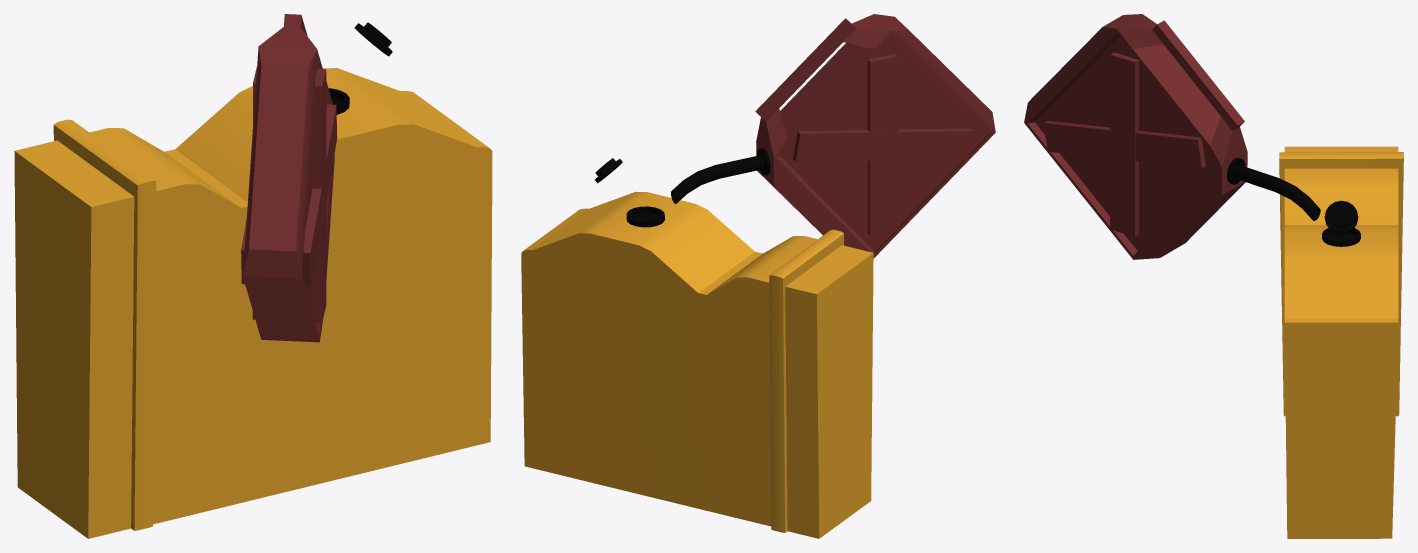
The model's file is FuelTank.fbx.
3 views of the same model, side by side, from view 1: azimuth 30°, elevation 25°; view 2: azimuth 150°, elevation 25°; view 3: azimuth 270°, elevation 25° (orthographic). The views are drawn at different scales.
Visible parts, largest first — view 1: Deposito; view 2: Deposito; view 3: Deposito.
Part boxes in pixels (x1,y1,x2,y2): Deposito: (14,14,492,538); Deposito: (521,14,995,538); Deposito: (1024,14,1403,538).
Size of the model in its own units: 112 by 147 by 122.
